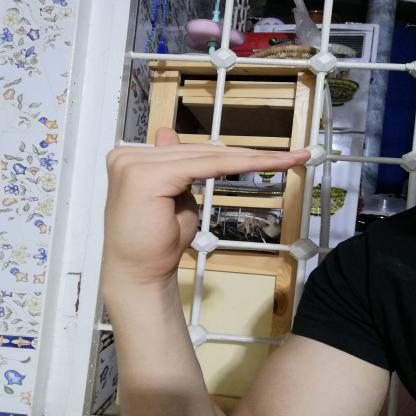KHAA: (83, 122, 326, 294)
